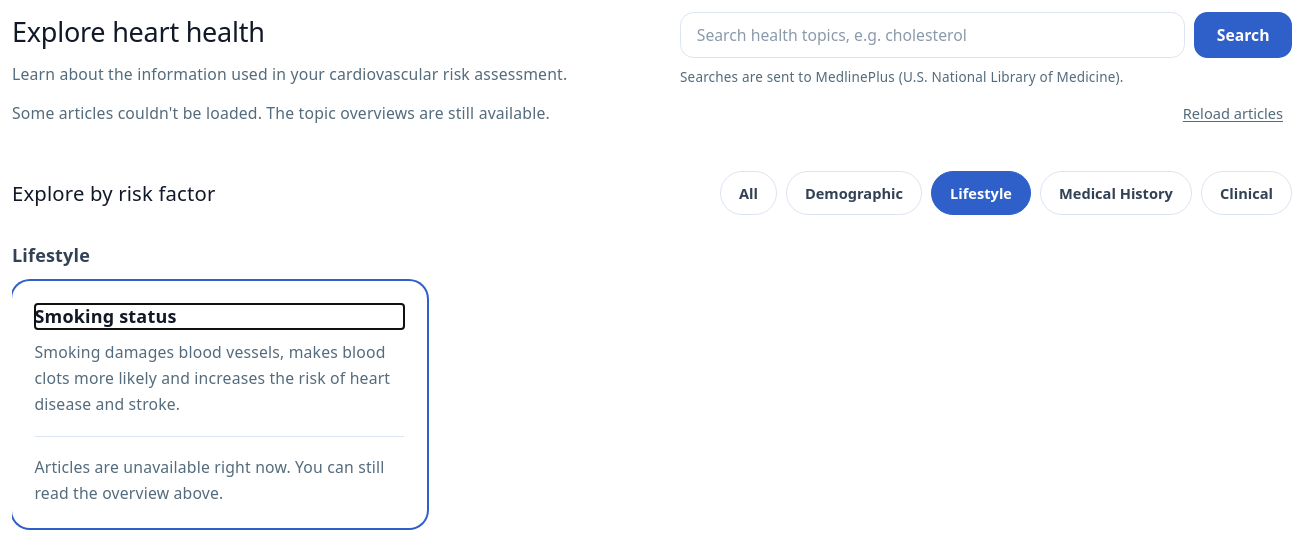
reloads failures only for the selected factor without getting stuck loading hidden topics
Expected: the message does not show "Loading", [12,102,550,124]
Click the button "Reload articles".
click(1233, 113)  # box [1174,91,1292,135]
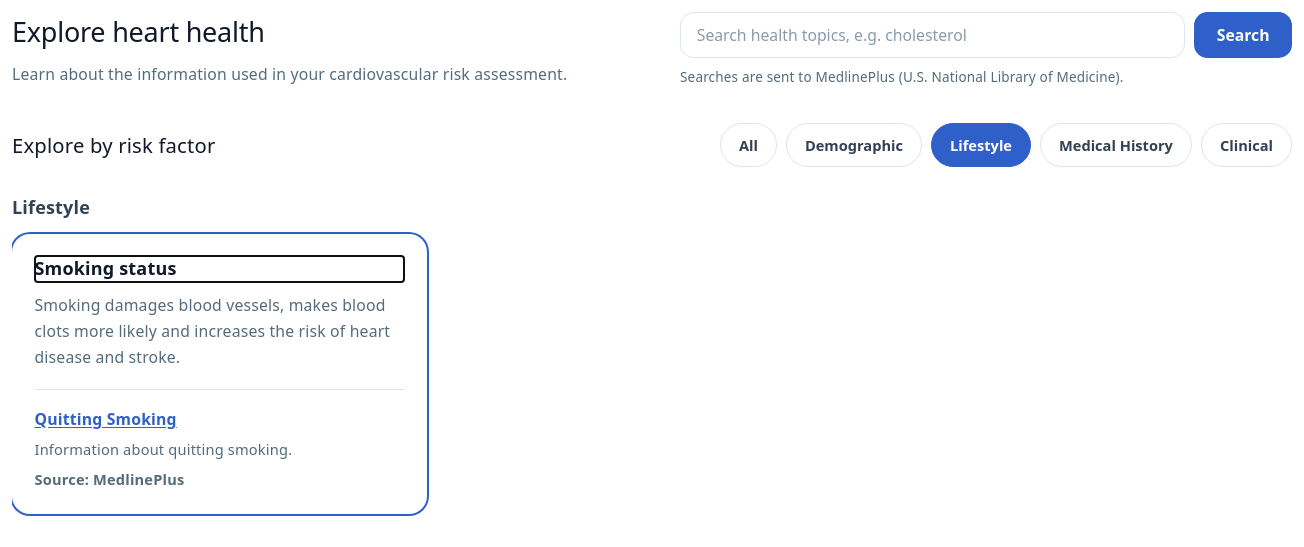
Expected: the button "Reload articles" is gone
